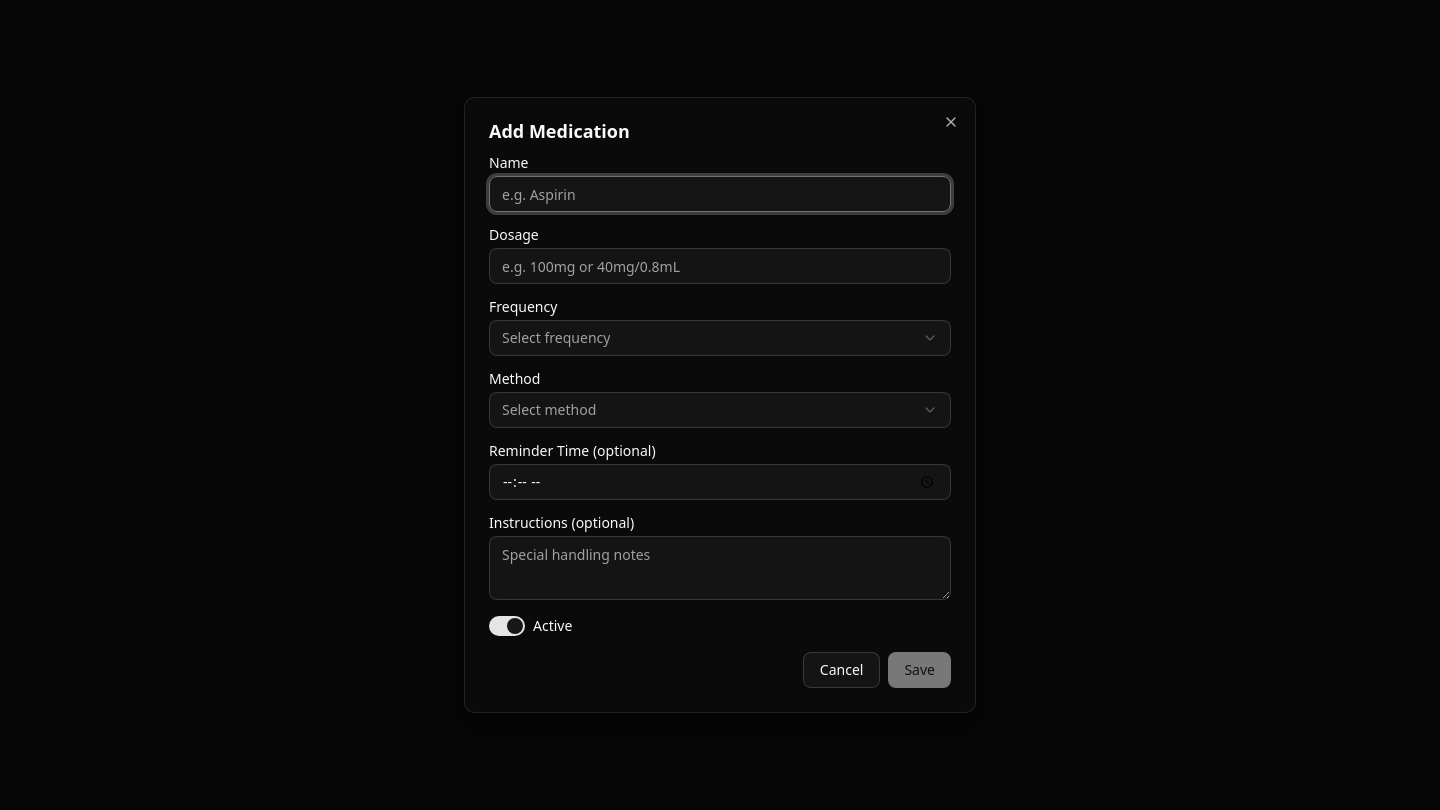
Test case: MedicationForm › Scheduled Day field appears when Frequency = Biweekly
The width and height of the screenshot is (1440, 810).
Click the dropdown labelled "Select frequency" at x=556, y=338, box [489,320,951,356]
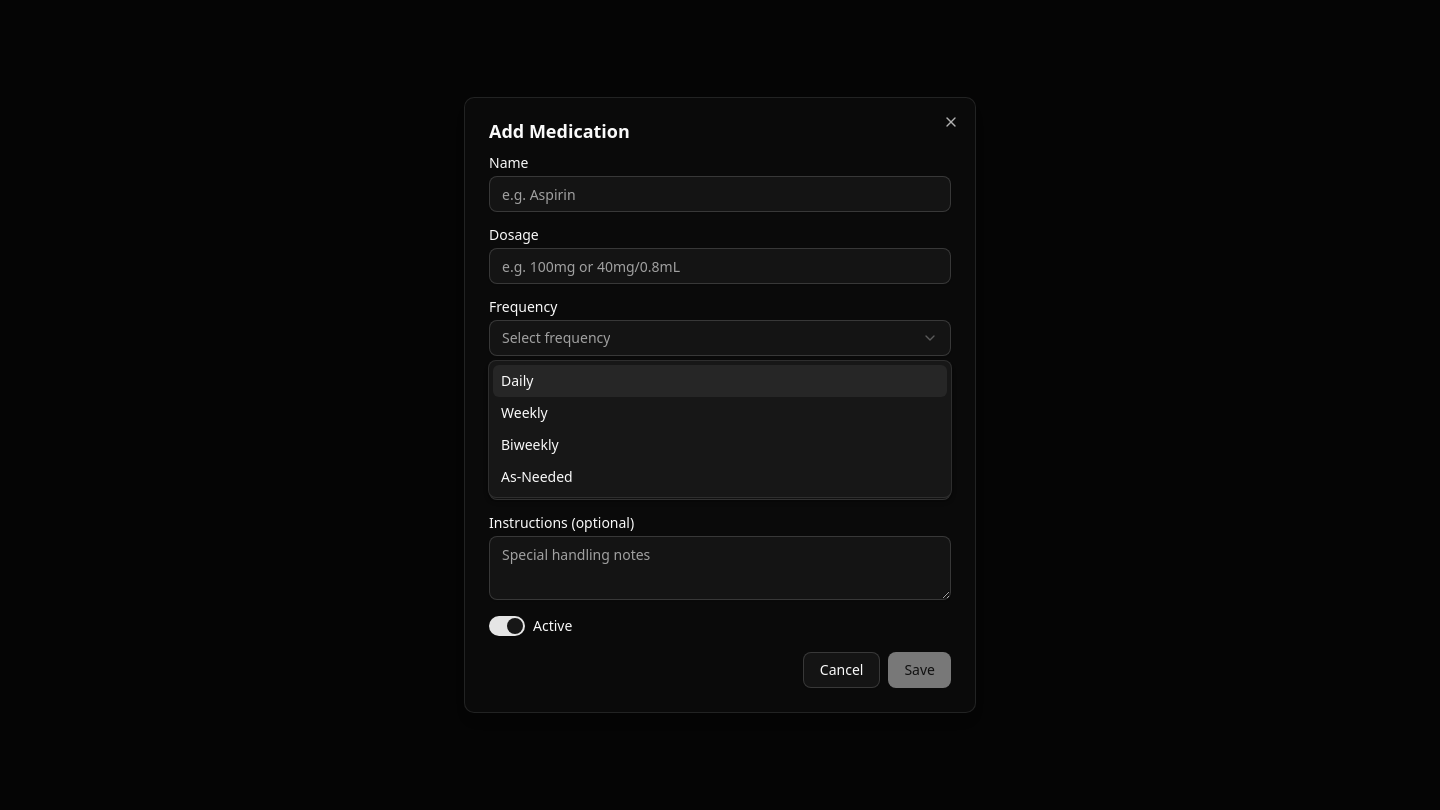
Click the option "Biweekly" at x=530, y=444, box [501,435,559,454]
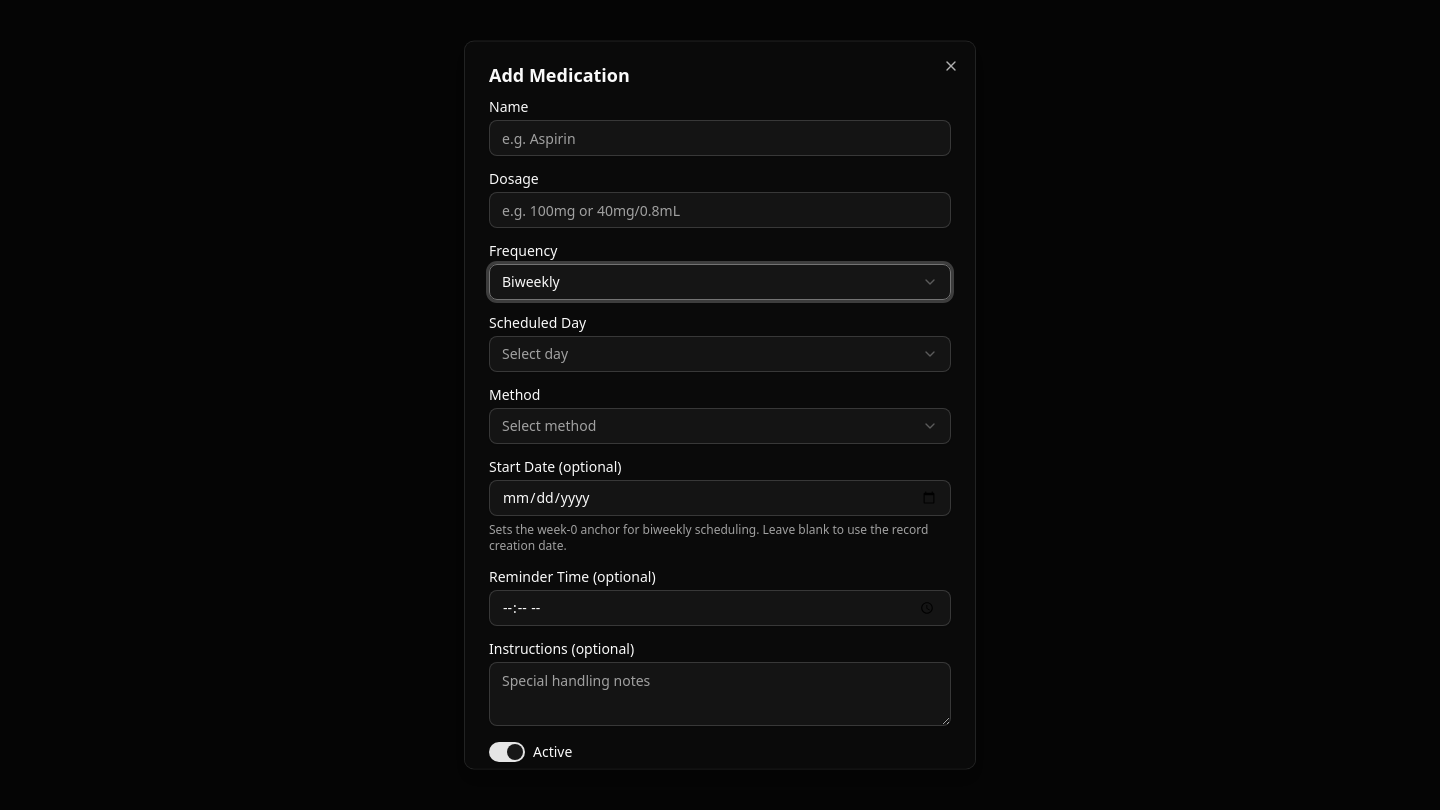
Expected: the dropdown named "scheduled day" is shown, [489,336,951,372]
